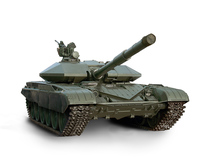t72: (19, 29, 186, 133)
